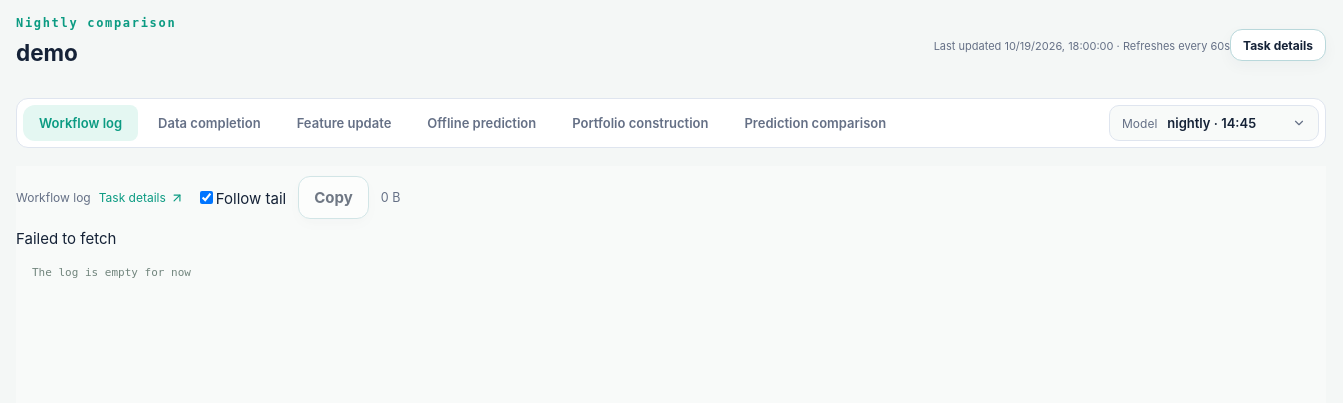
does not show an earlier ETL log when the latest construction failed
This screenshot has width=1343, height=403.
Click the tab "Feature update".
click(344, 123)  # box left=281, top=105, right=407, bottom=141
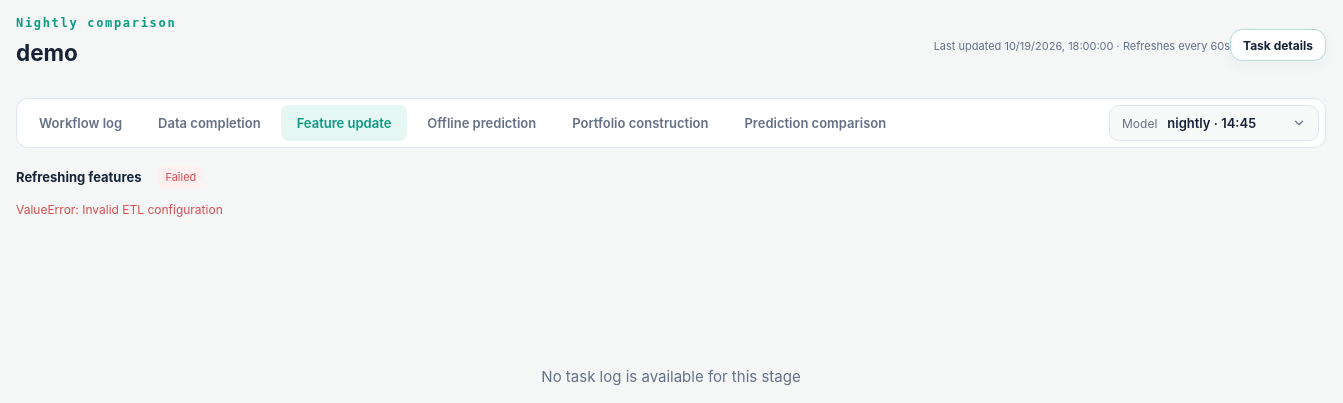
Now the element with class "compare-stage-row" shows "ValueError: Invalid ETL configuration", box left=16, top=202, right=223, bottom=217
